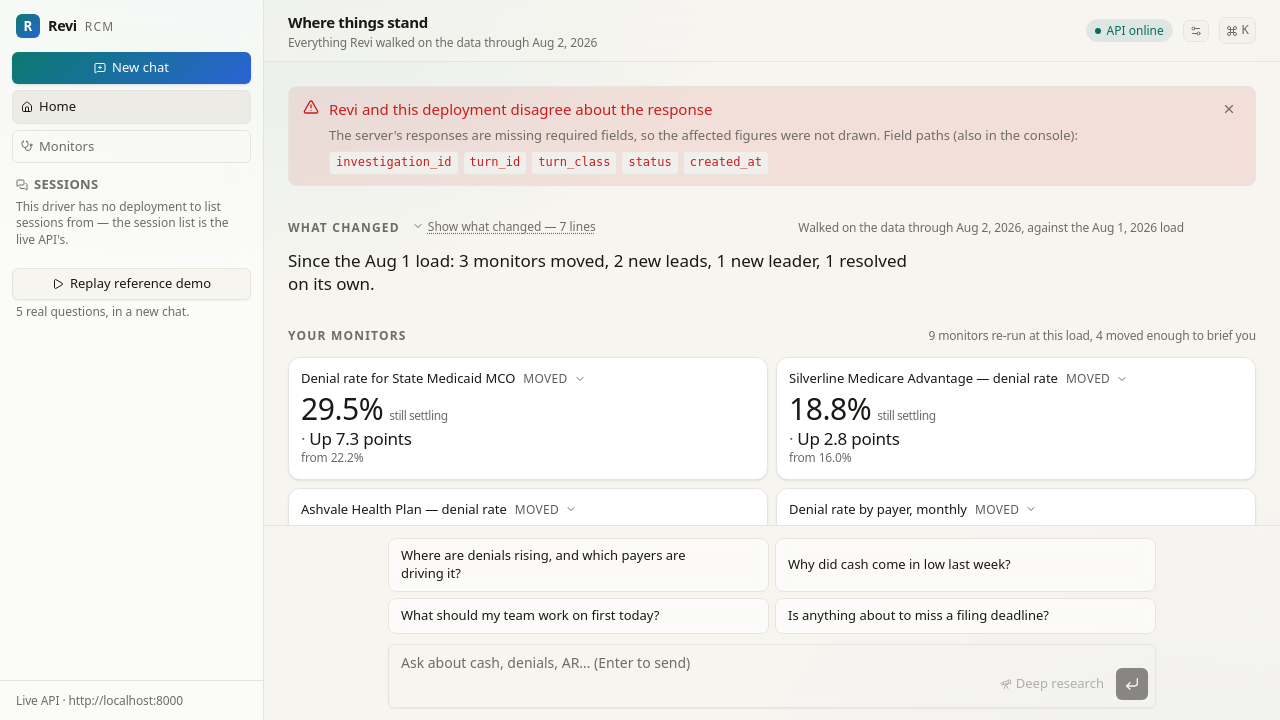
Home — a monitor opens in place, into its own detail › draws the stored readings as a chart with the loads named
What coordinates should you click on to do the following:
click the button that starts with "Denial rate by payer, monthly"
I would click on:
 (878, 509)
Its box is [777, 488, 1255, 606].
(page scrolled)
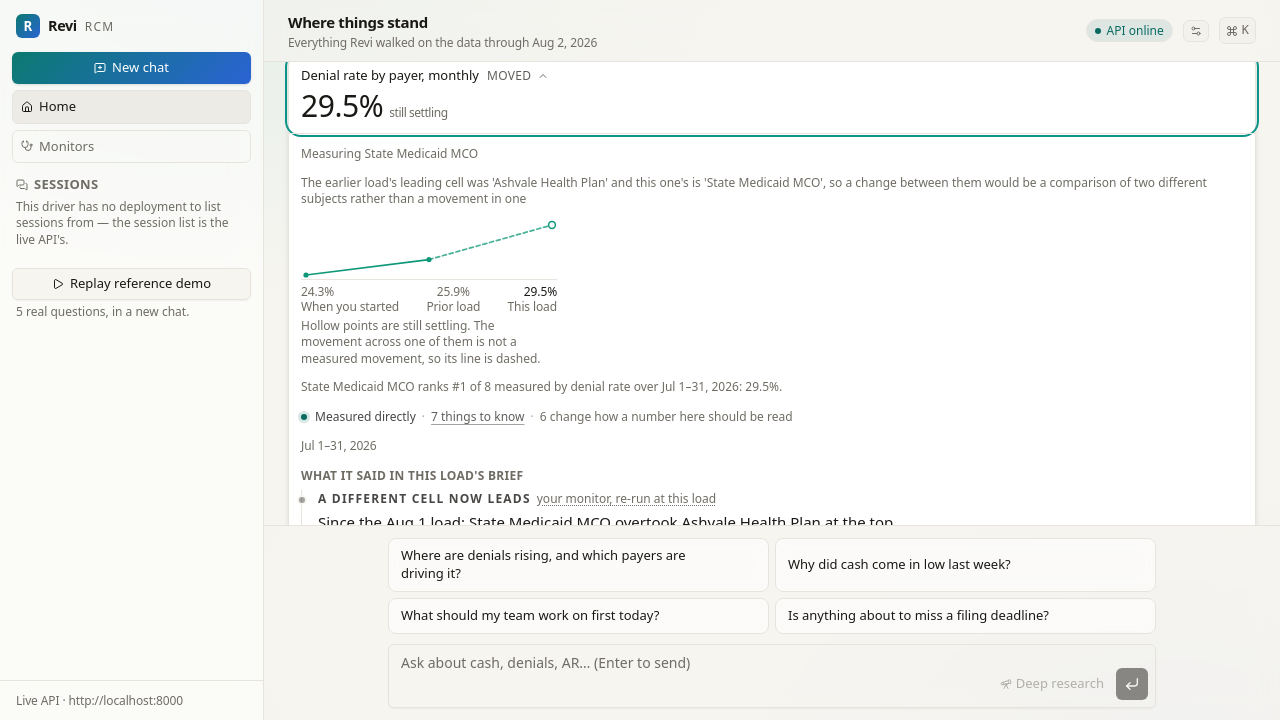
Expected: the element that starts with "When you started" is shown, [301, 220, 557, 368]
Expected: the element that starts with "When you started" shows "This load", [508, 298, 557, 315]
Expected: the element that starts with "When you started" shows "still settling", [403, 317, 467, 334]
